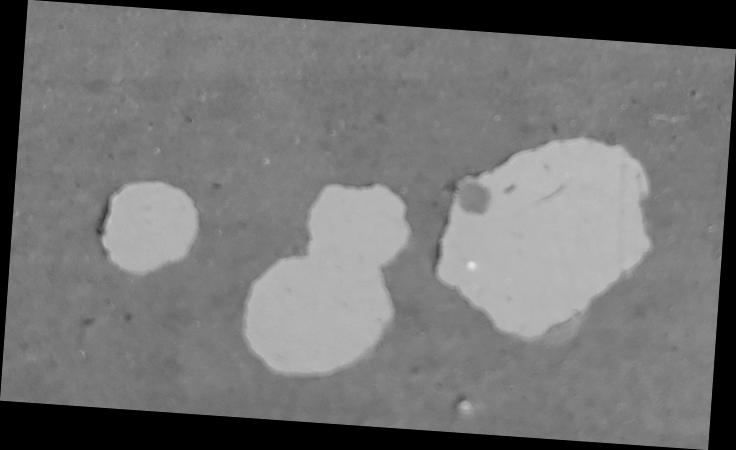paint-off: (1, 1, 736, 450)
